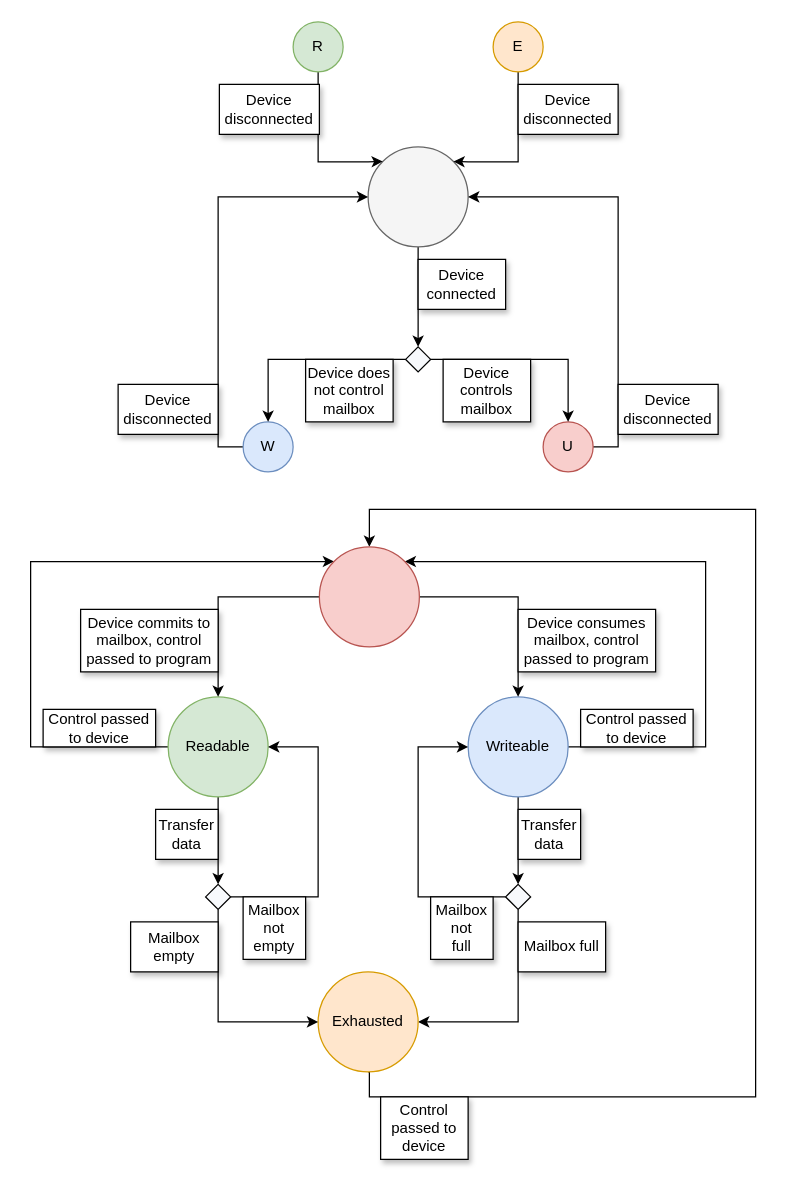
Some shapes in this 788 by 1190 pixel diagram are drawn without their labels. The centre of each missing label's shape, as x and y in pixels:
Disconnected: (417,196)
Unavailable: (368,596)
